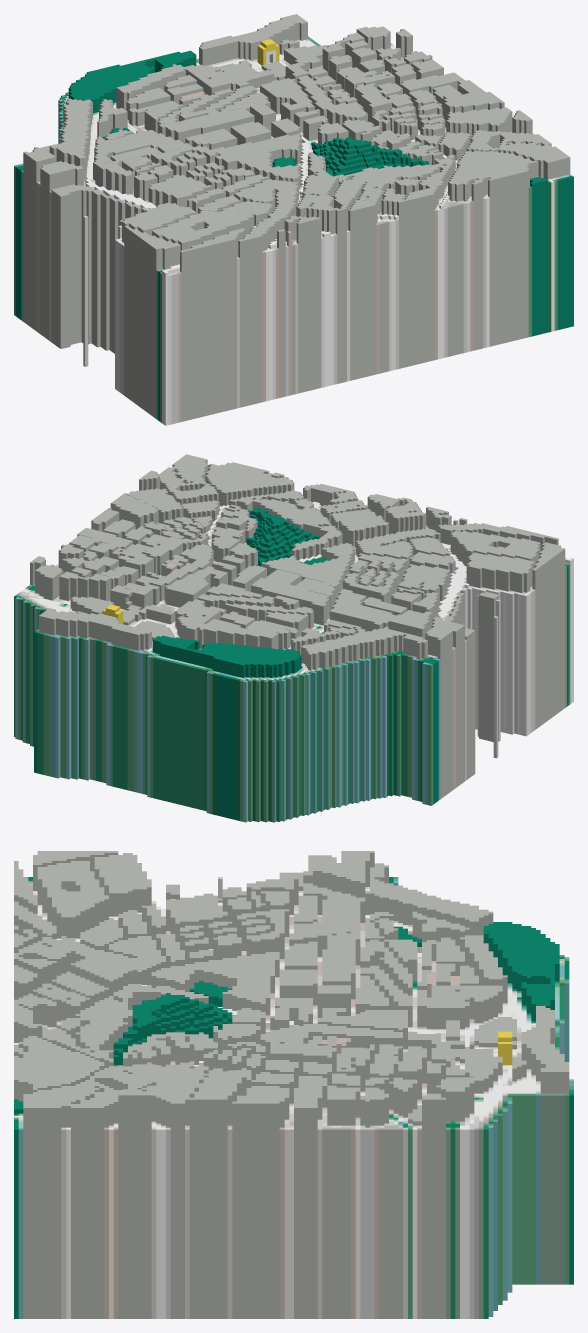
File: 200610 magicvoxel1-11.obj
3 views of the same model, one above another, from view 1: azimuth 30°, elevation 25°; view 2: azimuth 150°, elevation 25°; view 3: azimuth 270°, elevation 25° (orthographic). The views are drawn at different scales.
Bounding box in the file's own units: 12.6 × 5.2 × 11.8.
1 material, 1 textured.
